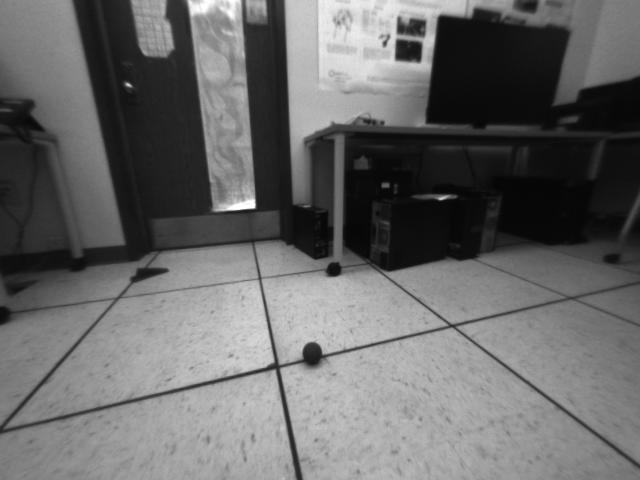dogtoy: (292, 334, 336, 371)
